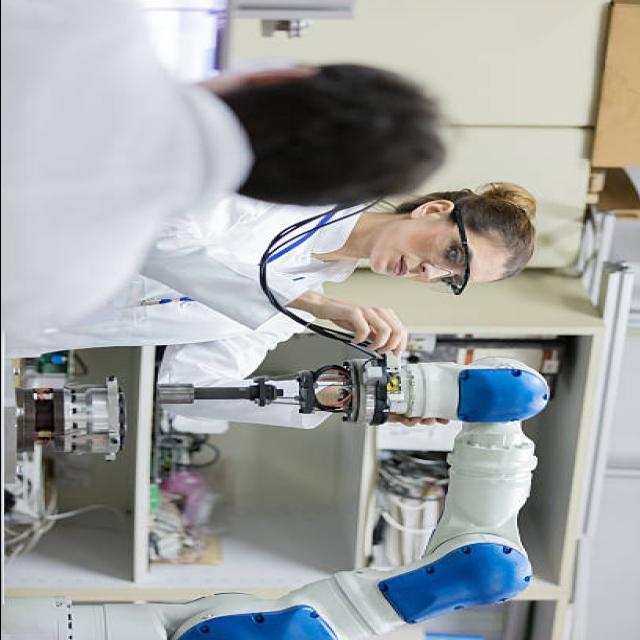Robotic-arm: (151, 353, 548, 639)
